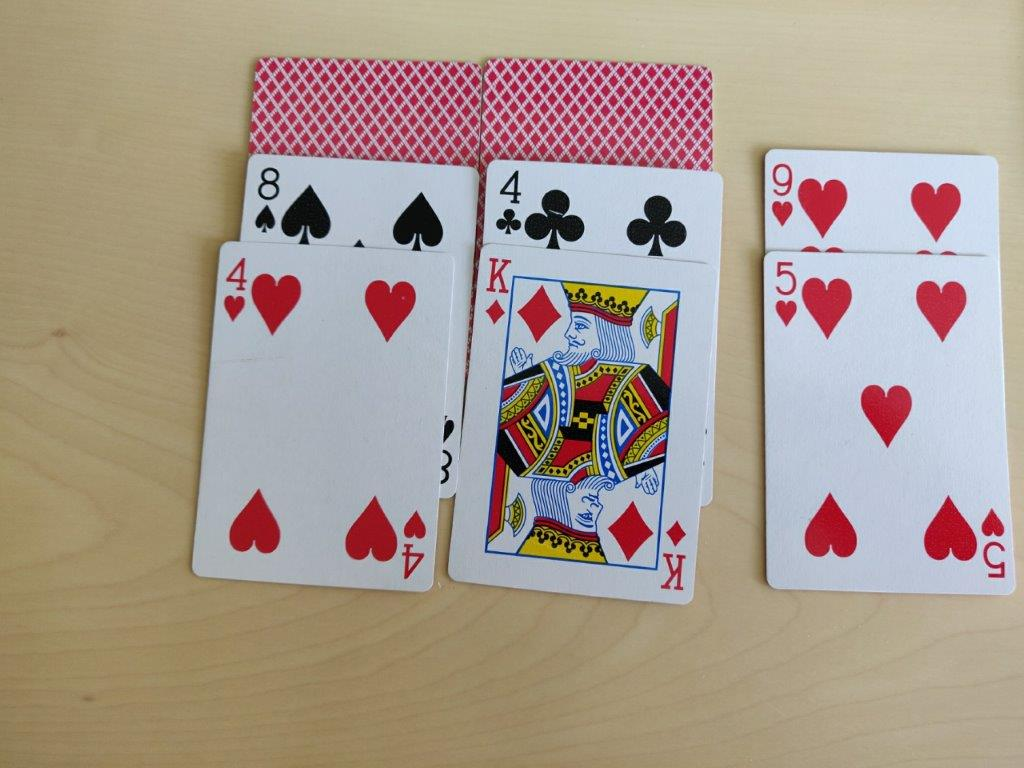4C: (491, 168, 524, 244)
4H: (216, 254, 253, 329)
5H: (768, 259, 805, 333)
8S: (249, 165, 285, 239)
9H: (766, 155, 801, 237)
BACK: (478, 52, 726, 167), (246, 57, 485, 163)
KD: (475, 253, 516, 330)
